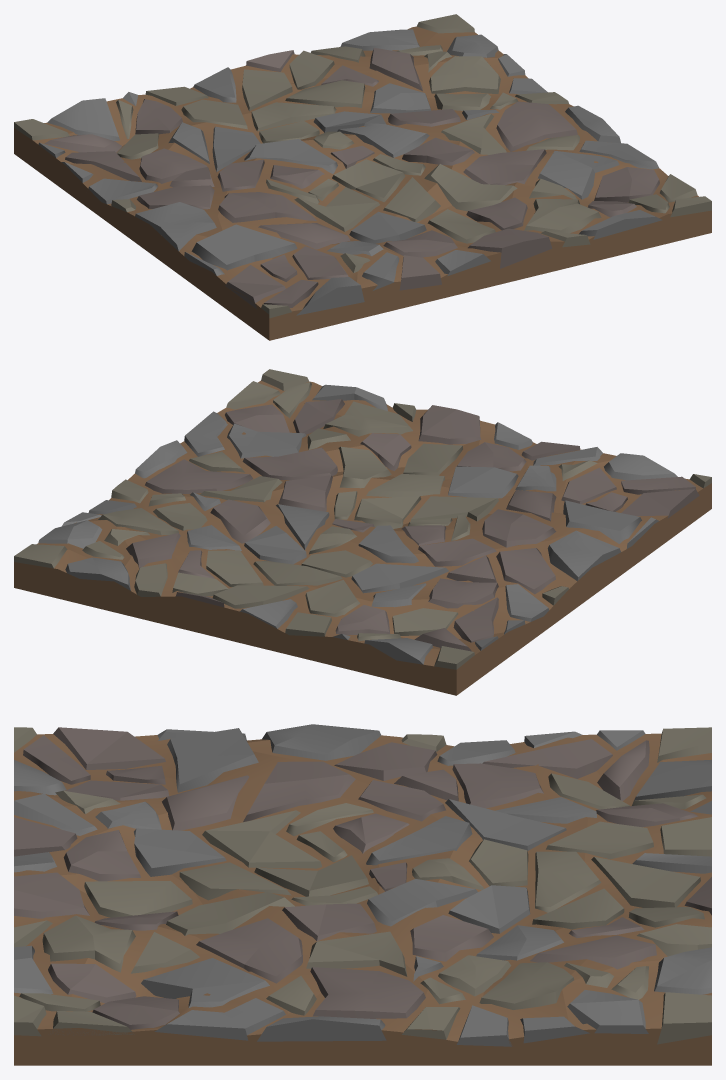
The model's file is Ground_Stones_2.glb.
3 views of the same model, one above another, from view 1: azimuth 30°, elevation 25°; view 2: azimuth 150°, elevation 25°; view 3: azimuth 270°, elevation 25° (orthographic). The views are drawn at different scales.
Parts seen in each view (by area): view 1: Ground_Stones_2; view 2: Ground_Stones_2; view 3: Ground_Stones_2.
Boxes of the visible parts, <box> form: Ground_Stones_2: <box>14,14,711,340</box>; Ground_Stones_2: <box>14,369,711,695</box>; Ground_Stones_2: <box>14,724,711,1065</box>.
Bounding box in the file's own units: 1.47 × 0.1278 × 1.47.
